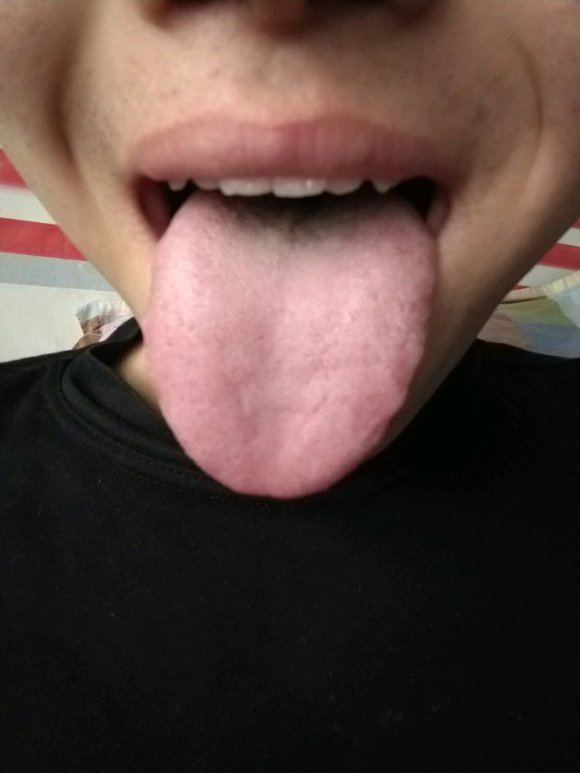baitaishe: (143, 189, 436, 497)
chihenshe: (374, 277, 435, 442)
